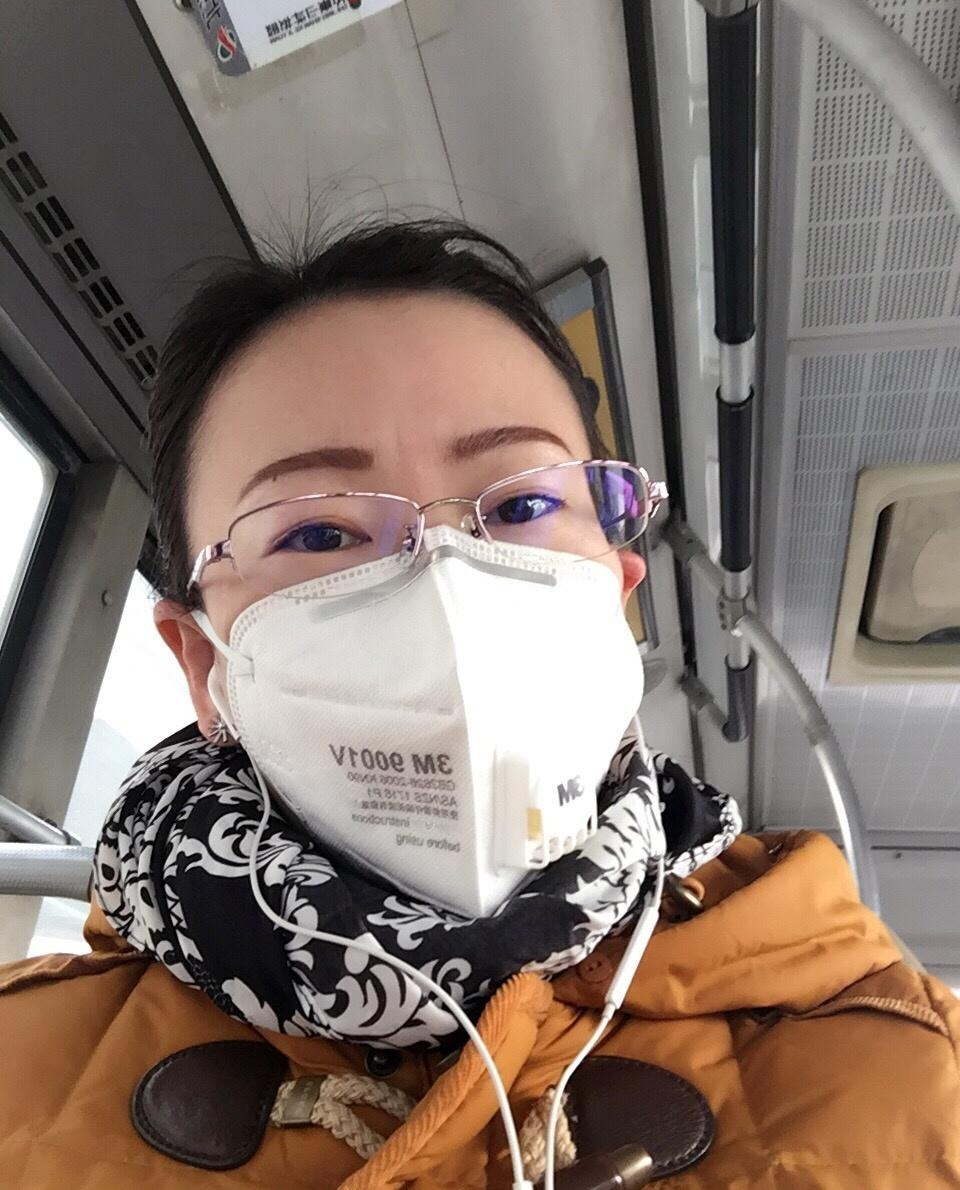Mask: (190, 435, 661, 906)
